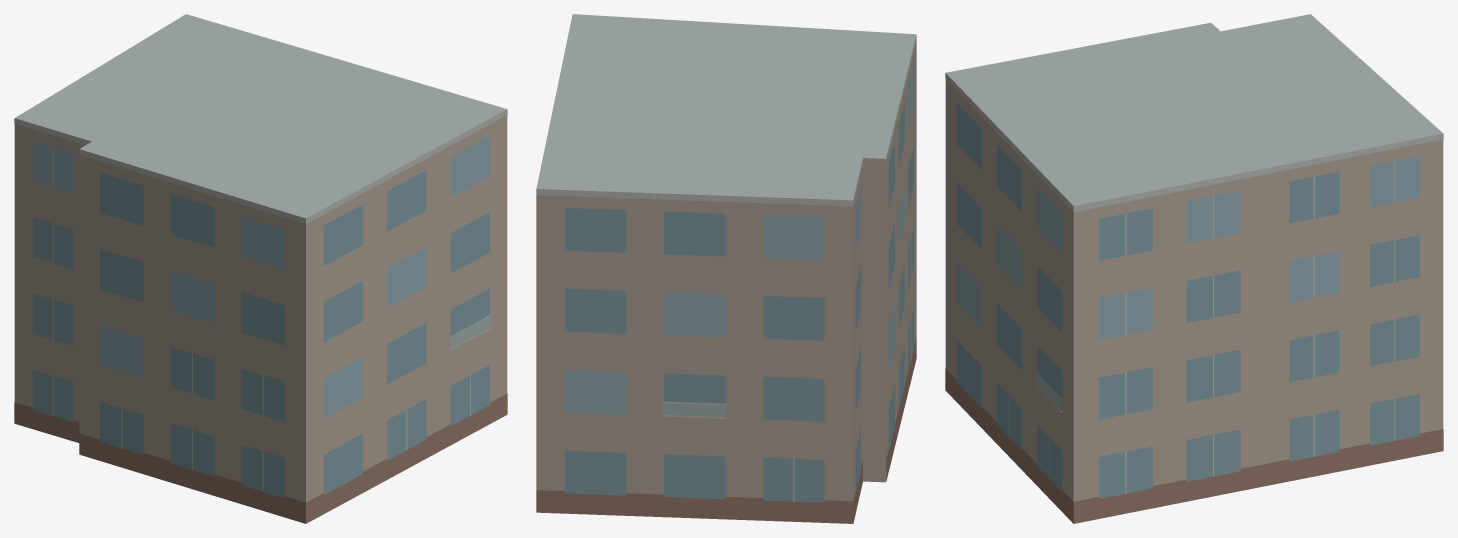
Rendered from survey-upis-32681630.glb.
The picture shows the model from 3 angles, left to right: view 1: azimuth 30°, elevation 25°; view 2: azimuth 150°, elevation 25°; view 3: azimuth 270°, elevation 25°; orthographic projection. The views are drawn at different scales.
Visible parts, largest first — view 1: survey-upis-32681630.tmp; view 2: survey-upis-32681630.tmp; view 3: survey-upis-32681630.tmp.
Part boxes in pixels (box(x1,y1,x2,y2)): survey-upis-32681630.tmp: box(14, 14, 507, 523); survey-upis-32681630.tmp: box(536, 14, 916, 523); survey-upis-32681630.tmp: box(945, 14, 1443, 523).
Size of the model in its own units: 16.89 by 13 by 18.48.
